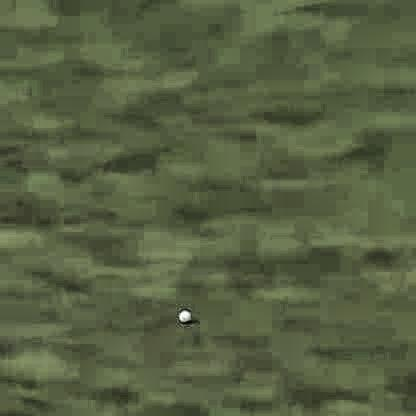golfball: (174, 308, 193, 324)
